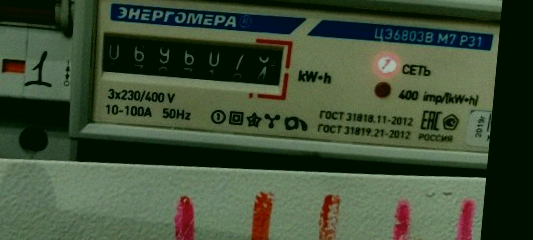0: (206, 45, 222, 68), (106, 39, 122, 61)
4: (254, 63, 269, 85)
6: (131, 40, 147, 62), (181, 45, 196, 66)
7: (230, 49, 247, 72)
9: (156, 43, 171, 65)
screen: (87, 20, 297, 98)
